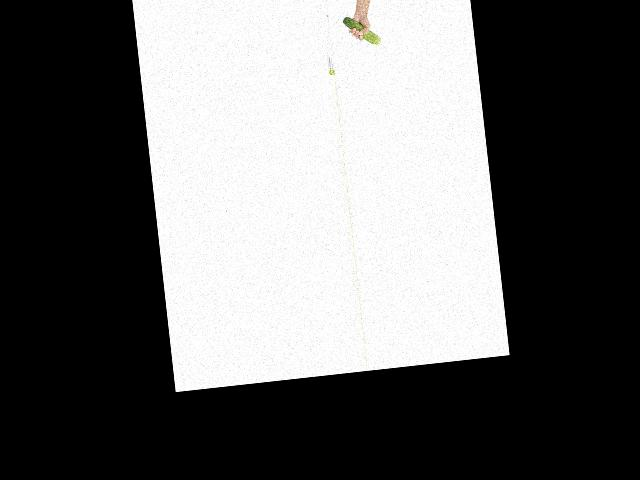cucumber: (342, 12, 380, 48)
